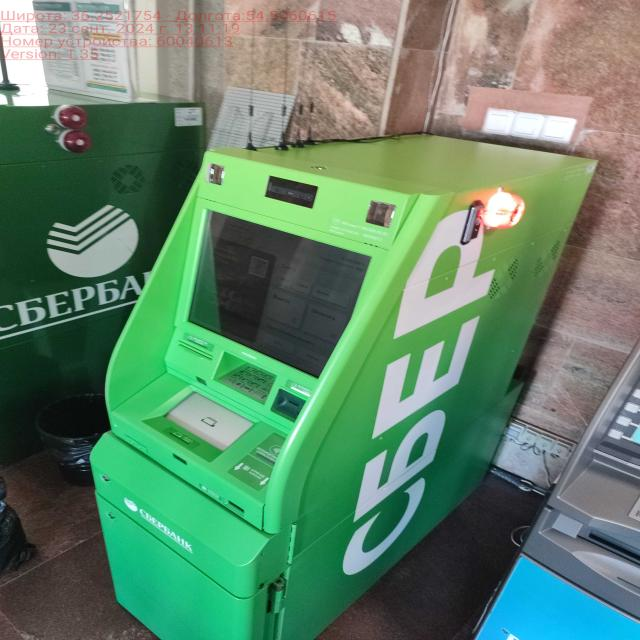bank: (79, 137, 595, 640), (0, 87, 195, 480)
